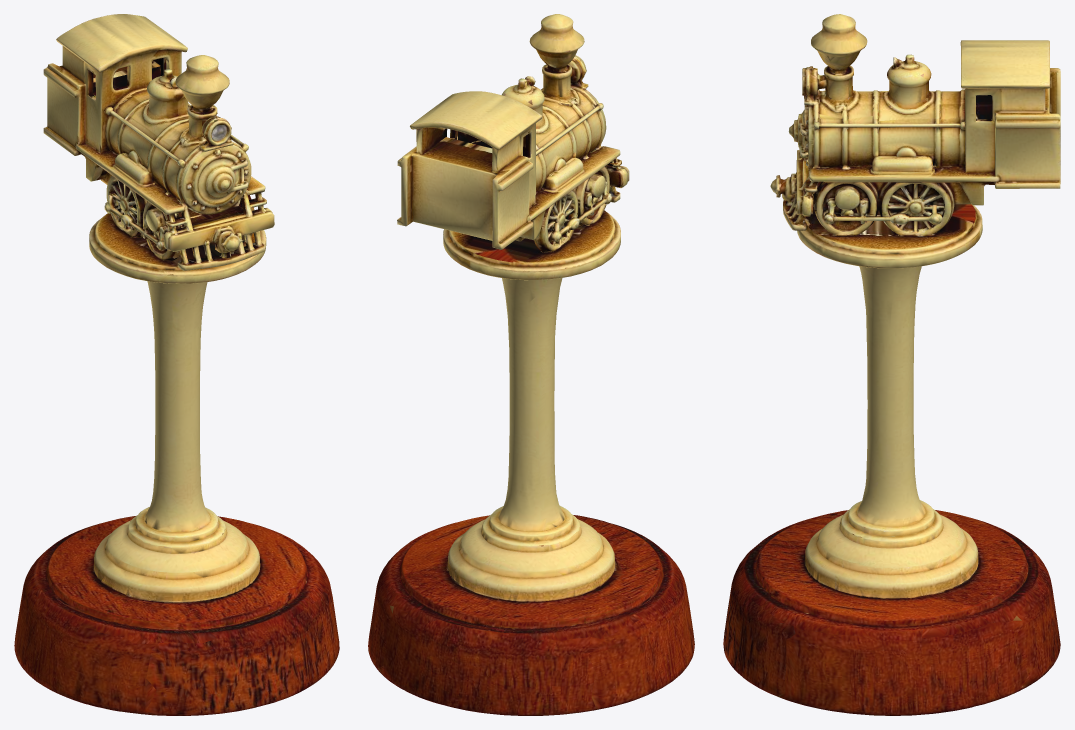
The model's file is trophy.glb.
3 renders of one model, left to right at view 1: azimuth 30°, elevation 25°; view 2: azimuth 150°, elevation 25°; view 3: azimuth 270°, elevation 25°, orthographic. The views are drawn at different scales.
Parts seen in each view (by area): view 1: trophy; view 2: trophy; view 3: trophy.
Boxes of the visible parts, box(x1,y1,x2,y2) form: trophy: box(14, 14, 339, 715); trophy: box(368, 14, 694, 715); trophy: box(723, 14, 1060, 715).
Size of the model in its own units: 0.4824 by 1 by 0.4852.
1 material, 1 textured.
